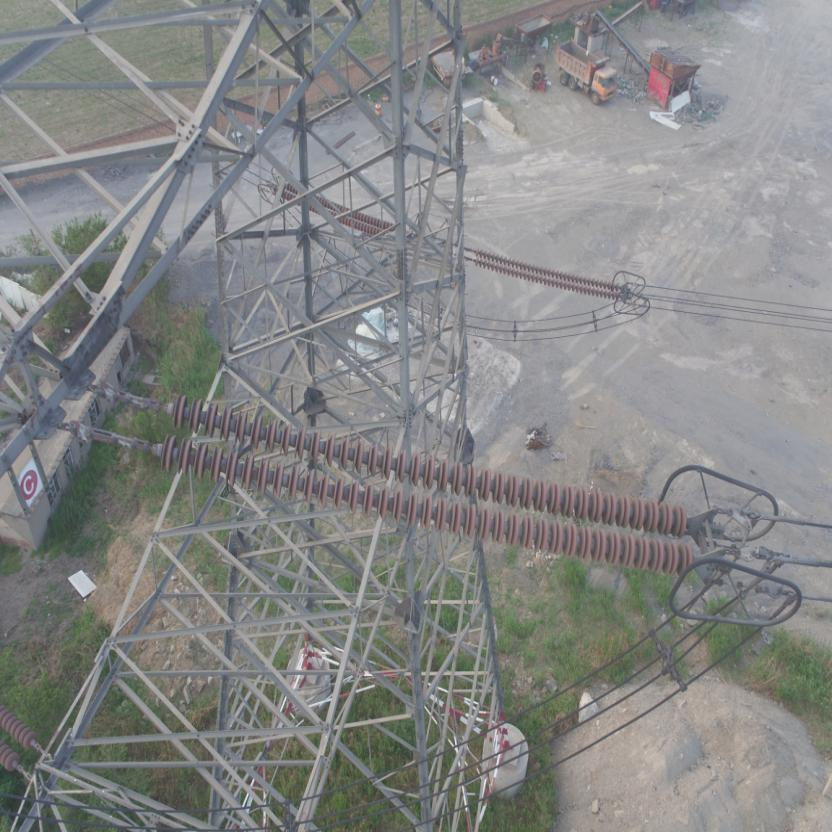insulator: (119, 388, 705, 583), (466, 244, 625, 302)
